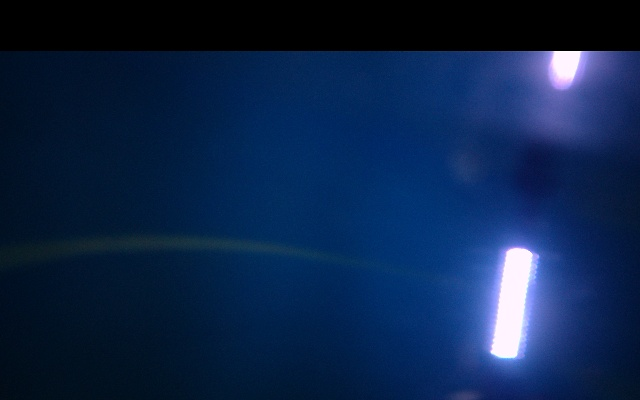white: (487, 248, 535, 359)
